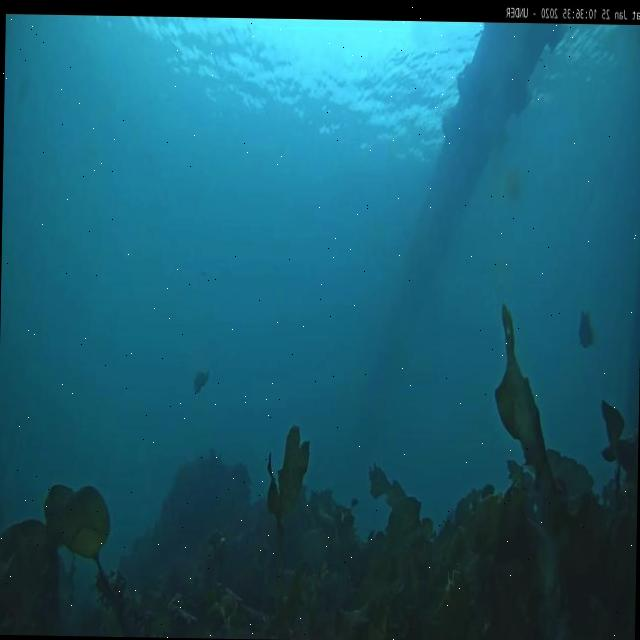fish: (576, 309, 596, 349), (192, 369, 210, 396)
